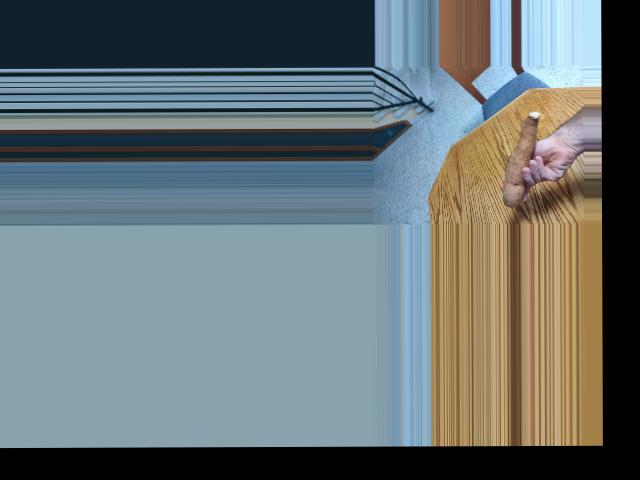sweet_potato: (498, 109, 541, 205)
